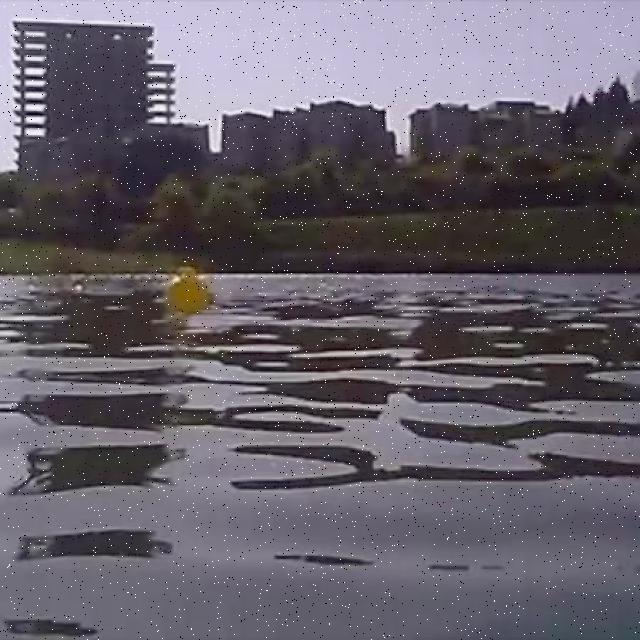buoy: (167, 265, 210, 315)
